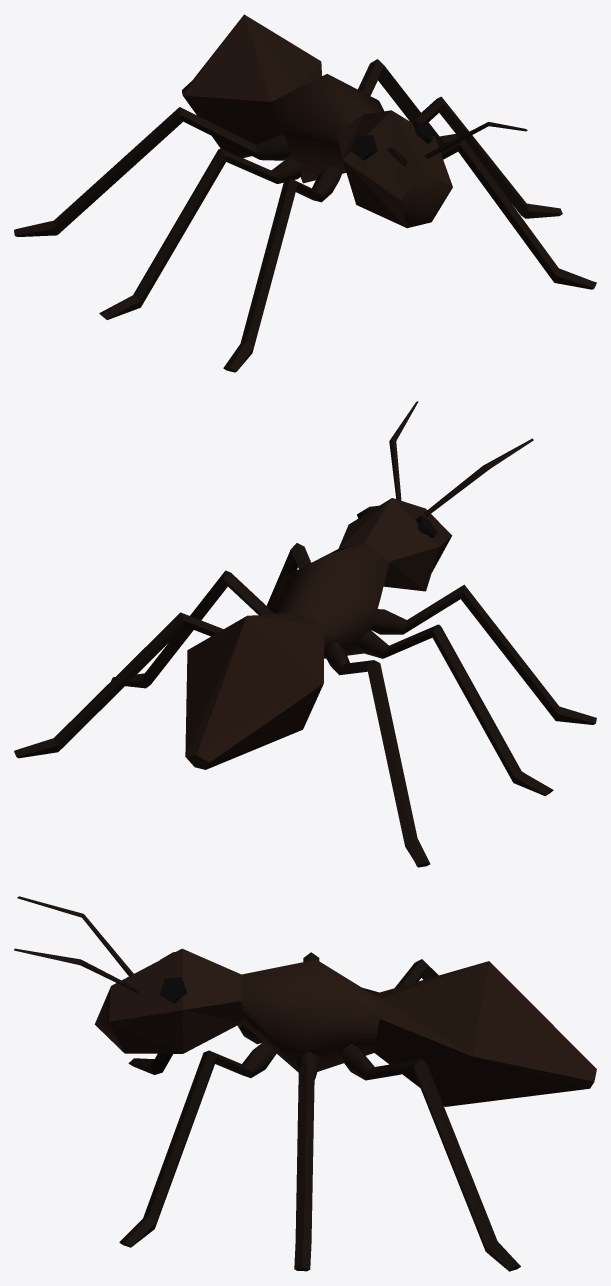
The model's file is basicAnt.fbx.
The picture shows the model from 3 angles, top to bottom: view 1: azimuth 30°, elevation 25°; view 2: azimuth 150°, elevation 25°; view 3: azimuth 270°, elevation 25°; orthographic projection. The views are drawn at different scales.
Visible parts, largest first — view 1: Cylinder001, Front Left Leg (×2), Back Right Leg, Middle Right Leg, Middle Left Leg, Back Left Leg, Spröt Right, Cylinder002; view 2: Cylinder001, Front Left Leg (×2), Back Right Leg, Middle Right Leg, Back Left Leg, Middle Left Leg, Spröt Left, Spröt Right; view 3: Cylinder001, Front Left Leg (×2), Back Left Leg, Middle Left Leg, Spröt Left, Spröt Right, Back Right Leg, Cylinder003.
Part boxes in pixels (box(x1,y1,x2,y2)): Cylinder001: box(182, 14, 452, 228); Front Left Leg (×2): box(223, 139, 596, 372); Back Right Leg: box(14, 107, 291, 236); Middle Right Leg: box(99, 148, 303, 319); Middle Left Leg: box(411, 96, 562, 218); Back Left Leg: box(358, 59, 458, 147); Spröt Right: box(425, 122, 527, 158); Cylinder002: box(351, 135, 377, 160); Cylinder001: box(185, 498, 452, 769); Front Left Leg (×2): box(266, 543, 596, 724); Back Right Leg: box(324, 641, 430, 867); Middle Right Leg: box(357, 624, 553, 796); Back Left Leg: box(14, 612, 223, 758); Middle Left Leg: box(111, 570, 273, 688); Spröt Left: box(423, 438, 533, 516); Spröt Right: box(389, 401, 418, 500); Cylinder001: box(94, 948, 596, 1106); Front Left Leg (×2): box(119, 1023, 276, 1247); Back Left Leg: box(339, 1044, 520, 1271); Middle Left Leg: box(294, 1051, 320, 1271); Spröt Left: box(17, 896, 133, 976); Spröt Right: box(14, 948, 139, 992); Back Right Leg: box(395, 959, 438, 987); Cylinder003: box(160, 977, 187, 1003).
Bounding box in the file's own units: 8.73 × 4.18 × 9.33.
